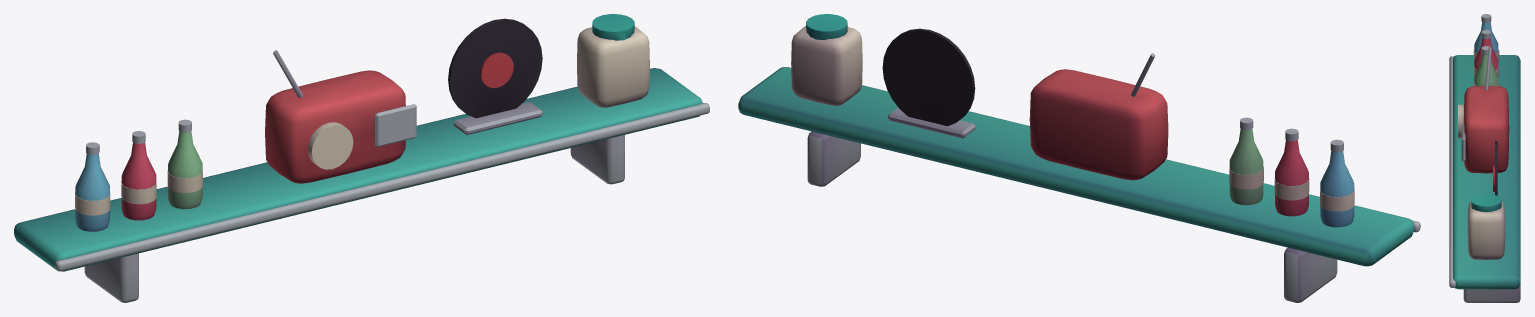
Rendered from shelf_retro.glb.
3 renders of one model, left to right at view 1: azimuth 30°, elevation 25°; view 2: azimuth 150°, elevation 25°; view 3: azimuth 270°, elevation 25°, orthographic. The views are drawn at different scales.
Visible parts, largest first — view 1: shelf_retro; view 2: shelf_retro; view 3: shelf_retro.
Boxes of the visible parts, x1,y1,x2,y2 form: shelf_retro: [14, 14, 709, 302]; shelf_retro: [738, 14, 1420, 302]; shelf_retro: [1449, 14, 1520, 302].
Size of the model in its own units: 2.26 by 0.6596 by 0.2999.
